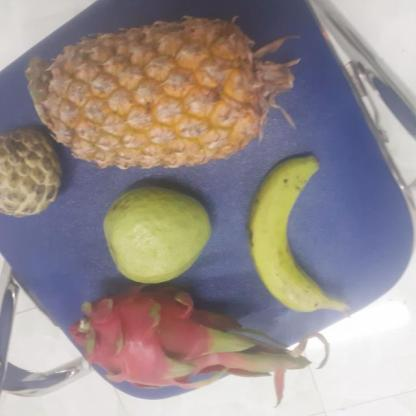annona: (0, 126, 68, 217)
banana: (252, 160, 340, 312)
guava: (103, 186, 217, 280)
pineapple: (36, 19, 296, 168)
pitaya: (83, 286, 226, 395)
